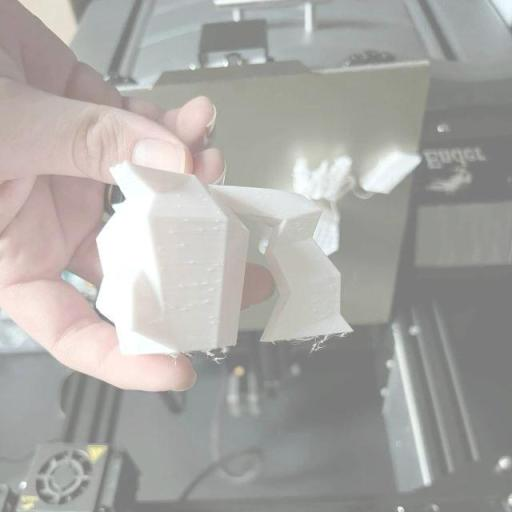blobs: (208, 318, 219, 328), (202, 295, 211, 306), (177, 240, 187, 248), (165, 228, 175, 236), (182, 216, 192, 223), (191, 280, 199, 288), (211, 225, 219, 233), (176, 282, 184, 290), (204, 265, 212, 273), (208, 285, 216, 293), (202, 196, 210, 203), (179, 306, 187, 312), (189, 257, 195, 265), (174, 204, 182, 210), (203, 280, 209, 287), (213, 217, 221, 222), (198, 228, 204, 233)
